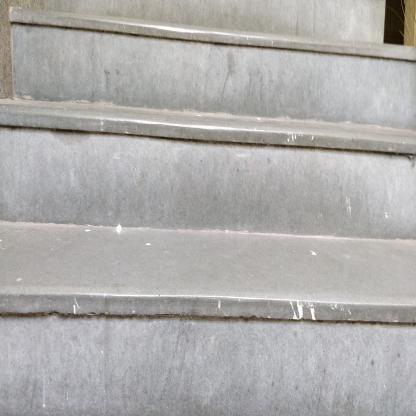stairs: (15, 2, 384, 409)
